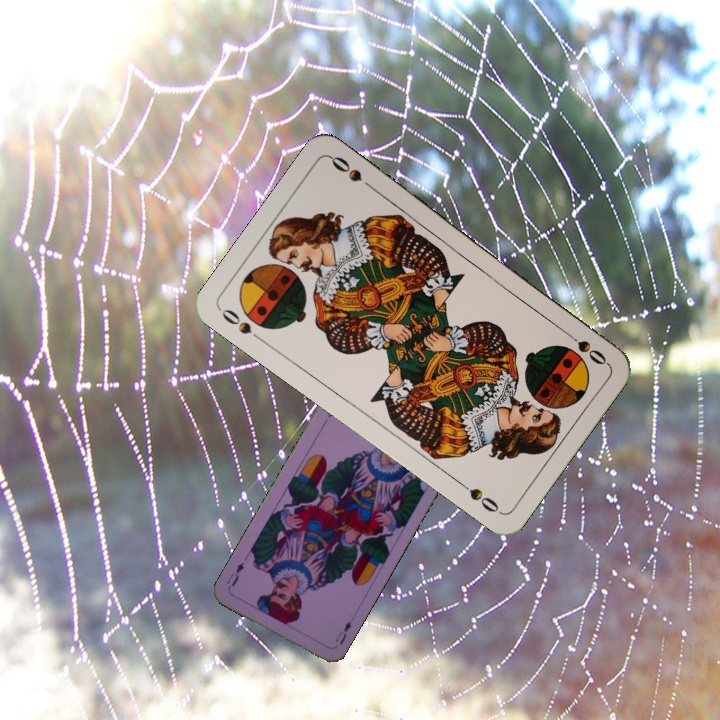EU: (331, 617, 354, 647)
SO: (559, 326, 610, 368), (217, 304, 267, 346)
